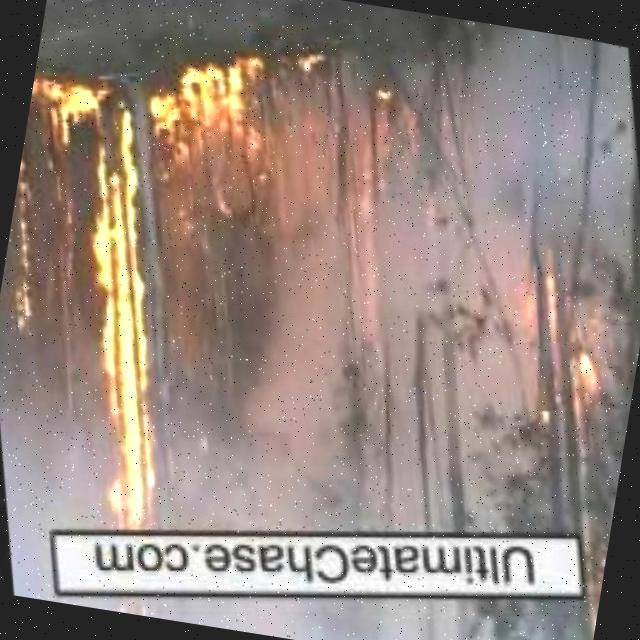fire: (34, 69, 238, 531), (125, 32, 310, 187), (329, 70, 427, 228), (518, 307, 618, 429), (25, 74, 102, 148)
